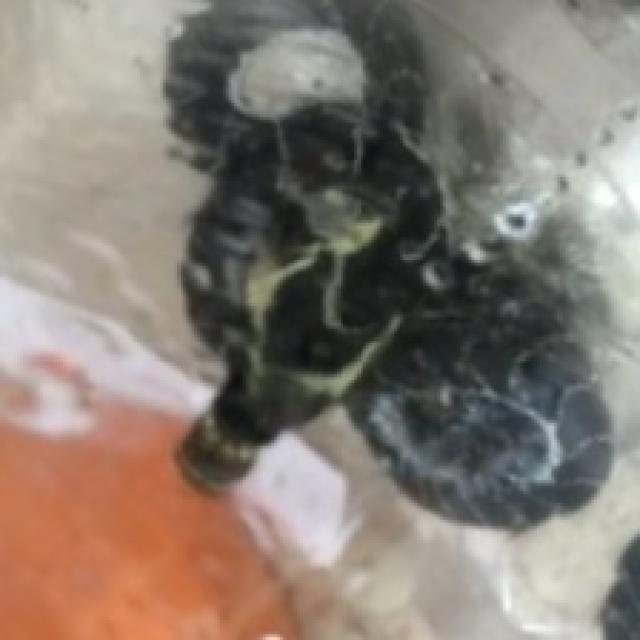king cobra: (166, 0, 609, 526)
